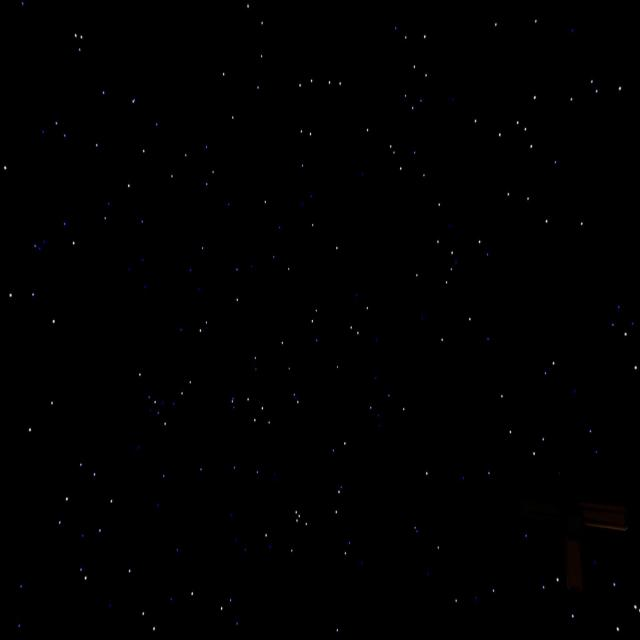satellite: (549, 466, 632, 605)
